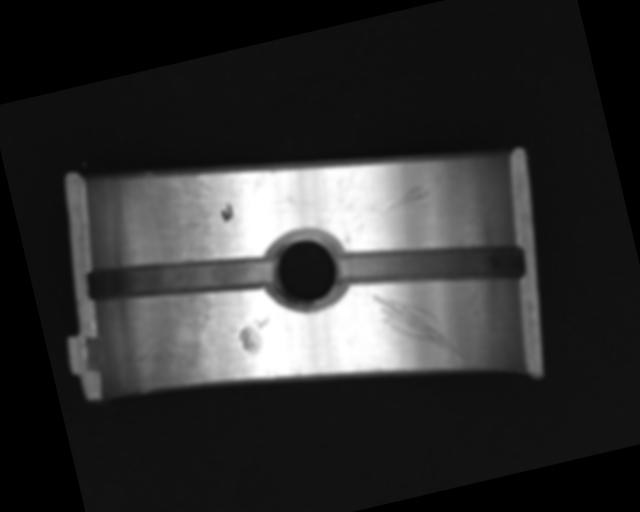blot: (218, 200, 235, 224)
bruise: (234, 316, 275, 356)
gap: (335, 214, 527, 316), (82, 230, 276, 323)
hole: (261, 223, 349, 315)
nick: (371, 277, 466, 378), (369, 184, 431, 215)
